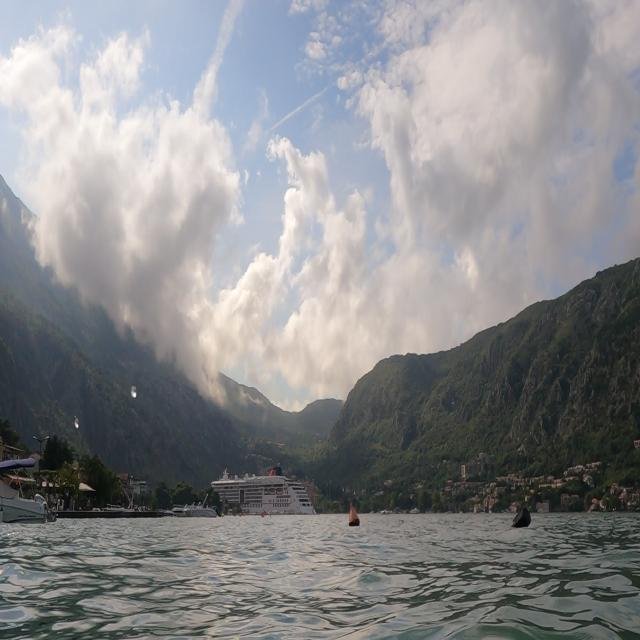boat: (207, 462, 321, 521), (0, 441, 64, 531)
buoy: (508, 496, 534, 540), (342, 501, 364, 532)
